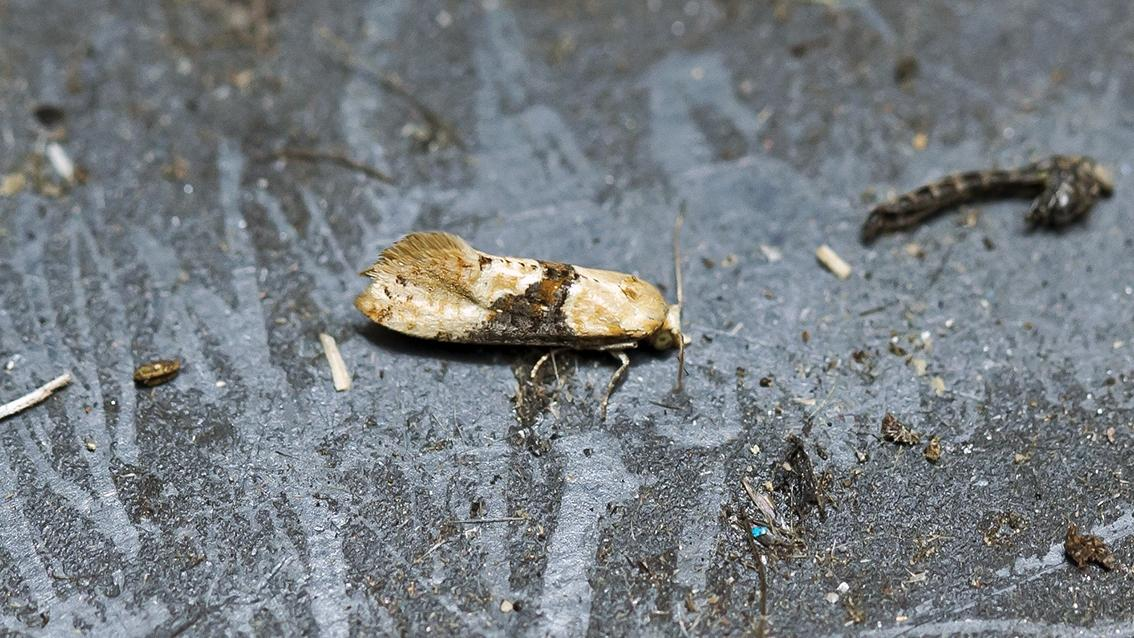Eupoecilia Ambiguella: (351, 224, 693, 423)
